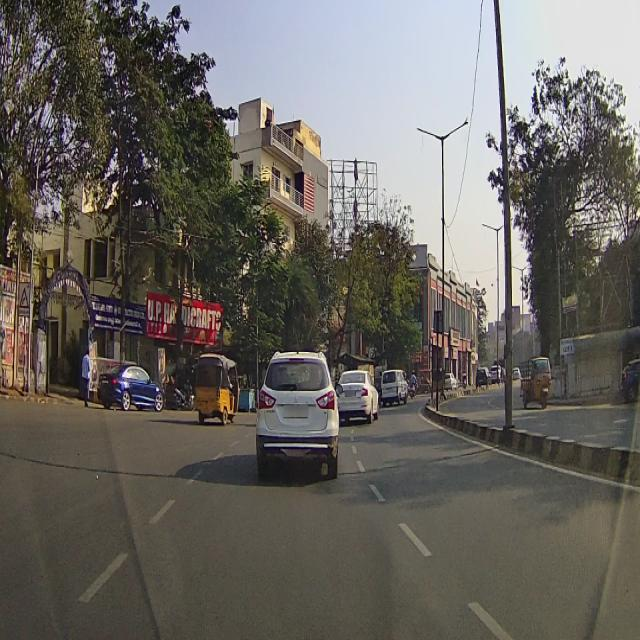auto ahead at: (191, 354, 238, 422)
car ahead at: (258, 353, 339, 468), (99, 361, 165, 421)
